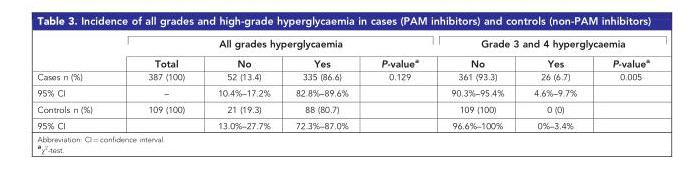table: (36, 37, 649, 130)
table column: (434, 37, 518, 130), (36, 37, 119, 130), (200, 37, 282, 130), (282, 37, 364, 130), (119, 37, 200, 130), (518, 37, 593, 130), (364, 37, 434, 130), (593, 37, 649, 130)
table column header: (36, 37, 649, 70)
table row: (36, 52, 649, 70), (36, 100, 649, 117), (36, 84, 649, 100), (36, 37, 649, 52), (36, 70, 649, 84), (36, 117, 649, 130)
table spanning cell: (119, 37, 434, 52), (434, 37, 649, 52)
